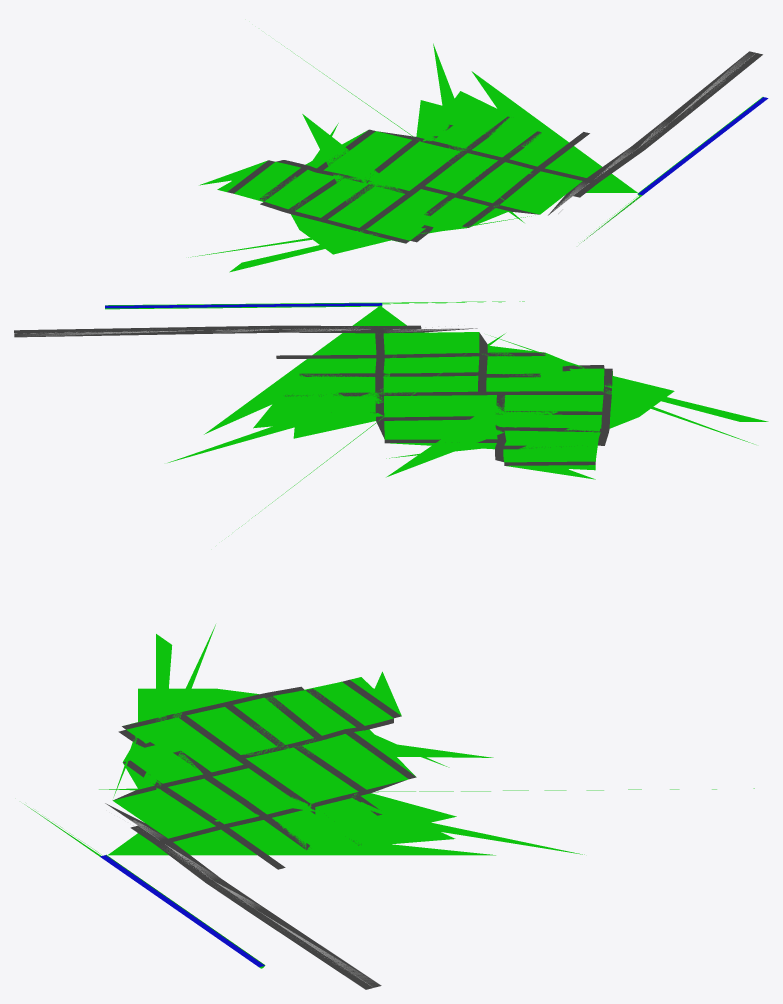
3 renders of one model, top to bottom at view 1: azimuth 30°, elevation 25°; view 2: azimuth 150°, elevation 25°; view 3: azimuth 270°, elevation 25°, orthographic. The views are drawn at different scales.
Size of the model in its own units: 331 by 1 by 287.
